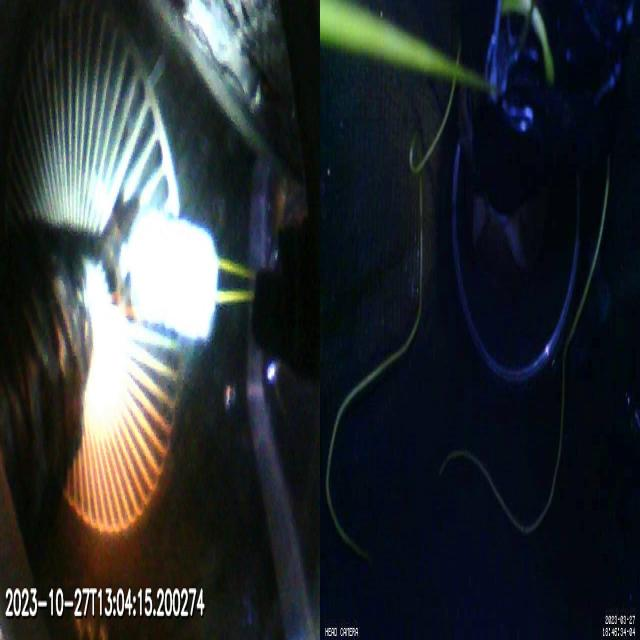head: (129, 206, 218, 341)
